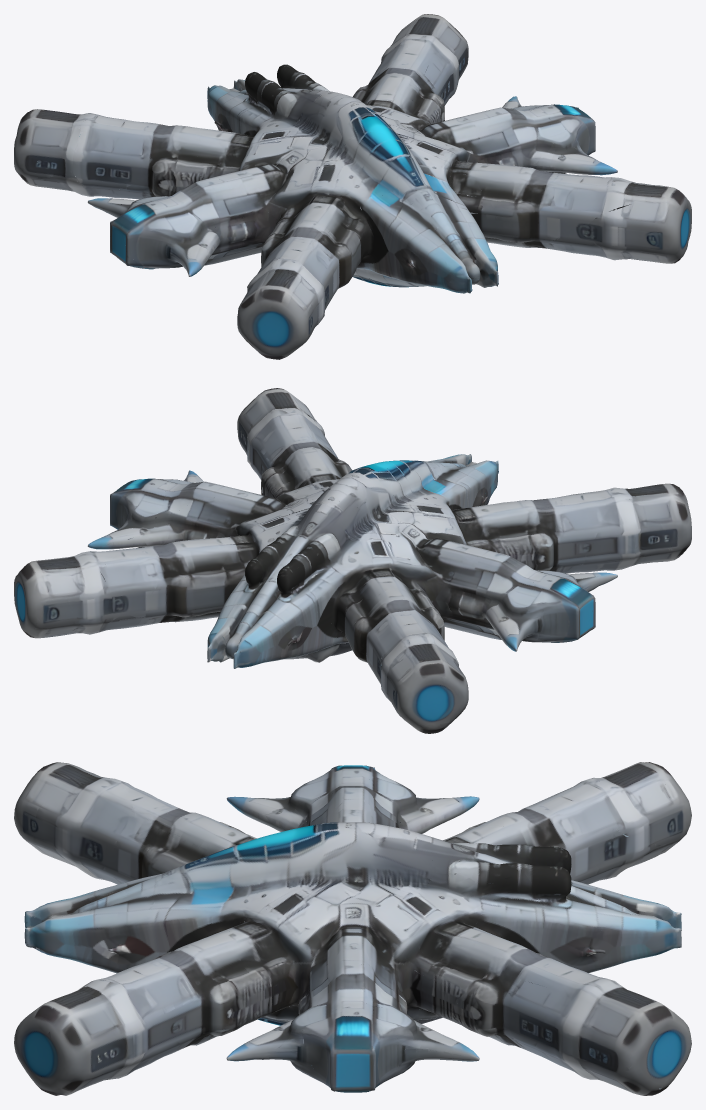
File: Nave Moderada .fbx
The picture shows the model from 3 angles, top to bottom: view 1: azimuth 30°, elevation 25°; view 2: azimuth 150°, elevation 25°; view 3: azimuth 270°, elevation 25°; orthographic projection. The views are drawn at different scales.
Visible parts, largest first — view 1: nave media, nave media_cell.041, nave media_cell.029, nave media_cell.076, nave media_cell.003, nave media_cell.098, nave media_cell.062, nave media_cell.030, nave media_cell.039, nave media_cell.015, nave media_cell.009, nave media_cell.068 (+24 smaller); view 2: nave media, nave media_cell.030, nave media_cell.033, nave media_cell.003, nave media_cell.065, nave media_cell.015, nave media_cell.037, nave media_cell.002, nave media_cell.041, nave media_cell.093, nave media_cell.062, nave media_cell.078 (+25 smaller); view 3: nave media, nave media_cell.086, nave media_cell.067, nave media_cell.074, nave media_cell.068, nave media_cell.042, nave media_cell.013, nave media_cell.028, nave media_cell.041, nave media_cell.078, nave media_cell.094, nave media_cell.009 (+18 smaller).
Boxes of the visible parts, x1,y1,x2,y2 form: nave media: (14,14,691,359); nave media_cell.041: (73,114,200,194); nave media_cell.029: (475,164,582,247); nave media_cell.076: (586,191,686,259); nave media_cell.003: (197,130,321,178); nave media_cell.098: (330,132,403,202); nave media_cell.062: (237,274,311,359); nave media_cell.030: (200,73,326,141); nave media_cell.039: (14,113,90,179); nave media_cell.015: (231,149,340,226); nave media_cell.009: (122,188,207,275); nave media_cell.068: (400,14,468,85); nave media: (14,388,691,733); nave media_cell.030: (269,502,392,598); nave media_cell.033: (233,549,317,659); nave media_cell.003: (368,516,481,600); nave media_cell.065: (572,497,669,572); nave media_cell.015: (392,503,503,551); nave media_cell.037: (474,498,547,558); nave media_cell.002: (125,539,225,577); nave media_cell.041: (359,588,456,676); nave media_cell.093: (538,588,595,642); nave media_cell.062: (641,483,691,561); nave media_cell.078: (278,465,393,524); nave media: (14,762,691,1095); nave media_cell.086: (147,848,260,954); nave media_cell.067: (227,912,357,1020); nave media_cell.074: (33,776,135,881); nave media_cell.068: (544,975,662,1065); nave media_cell.042: (385,871,484,967); nave media_cell.013: (302,1003,398,1092); nave media_cell.028: (610,785,691,845); nave media_cell.041: (484,779,614,883); nave media_cell.078: (257,822,435,929); nave media_cell.094: (78,890,159,969); nave media_cell.009: (230,765,371,819).
Size of the model in its own units: 189 by 64.79 by 191.
